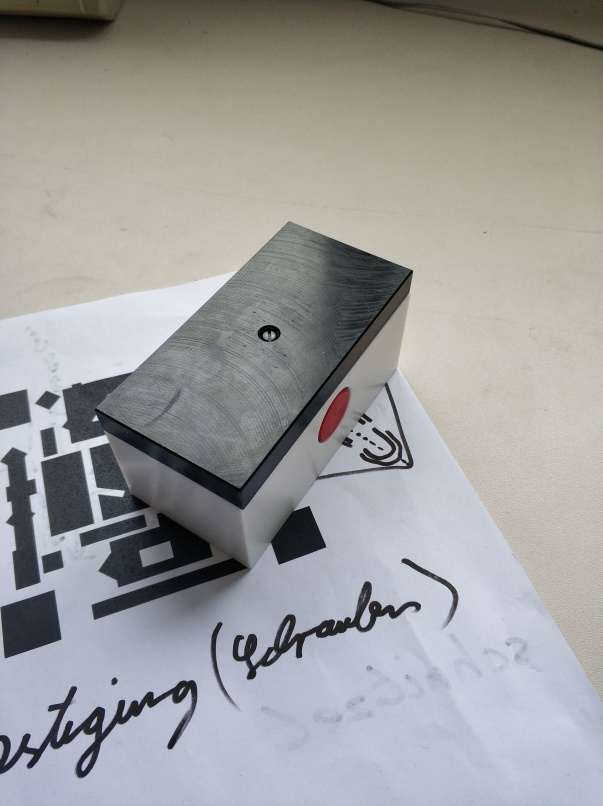black+white+red: (93, 217, 414, 573)
